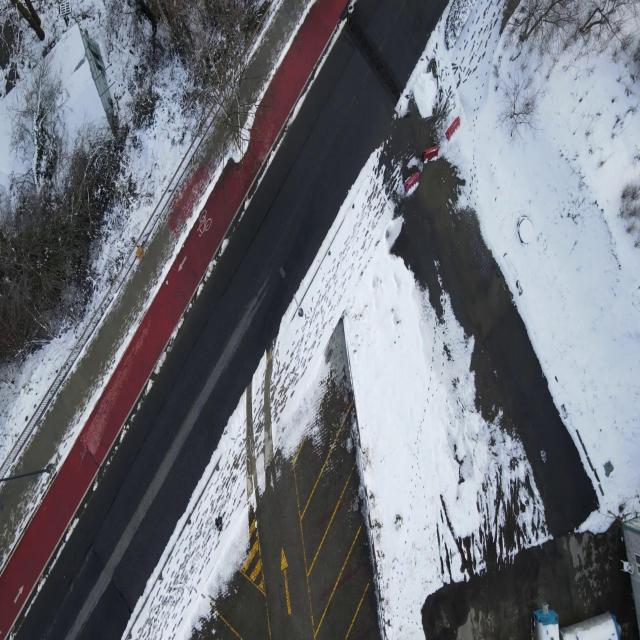p3rson: (215, 508, 226, 534)
